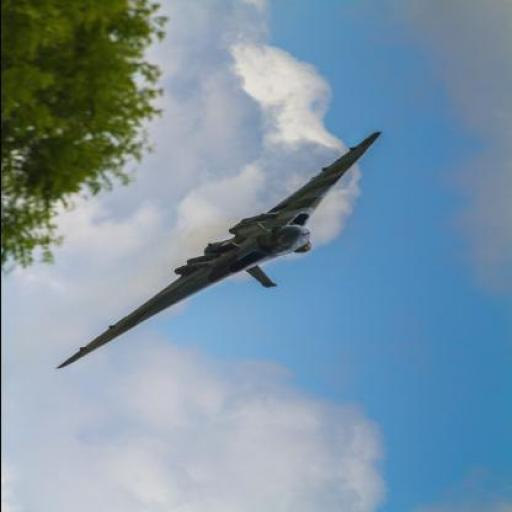aircraft: (53, 129, 386, 372)
